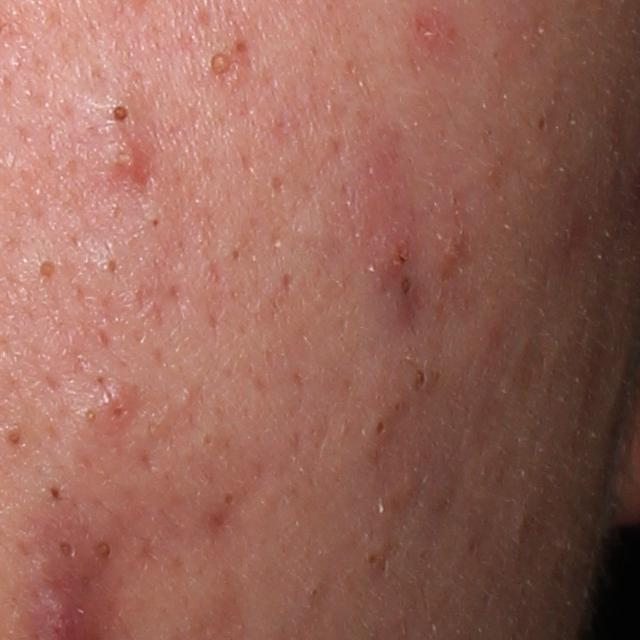comedo: (94, 94, 138, 138), (26, 244, 63, 288), (205, 47, 238, 84), (40, 475, 71, 506), (1, 424, 29, 455), (410, 361, 436, 394), (363, 415, 394, 441), (94, 531, 113, 564), (55, 536, 77, 562), (363, 551, 380, 575), (178, 384, 195, 405), (538, 114, 552, 138), (82, 404, 97, 426), (105, 256, 122, 274)
